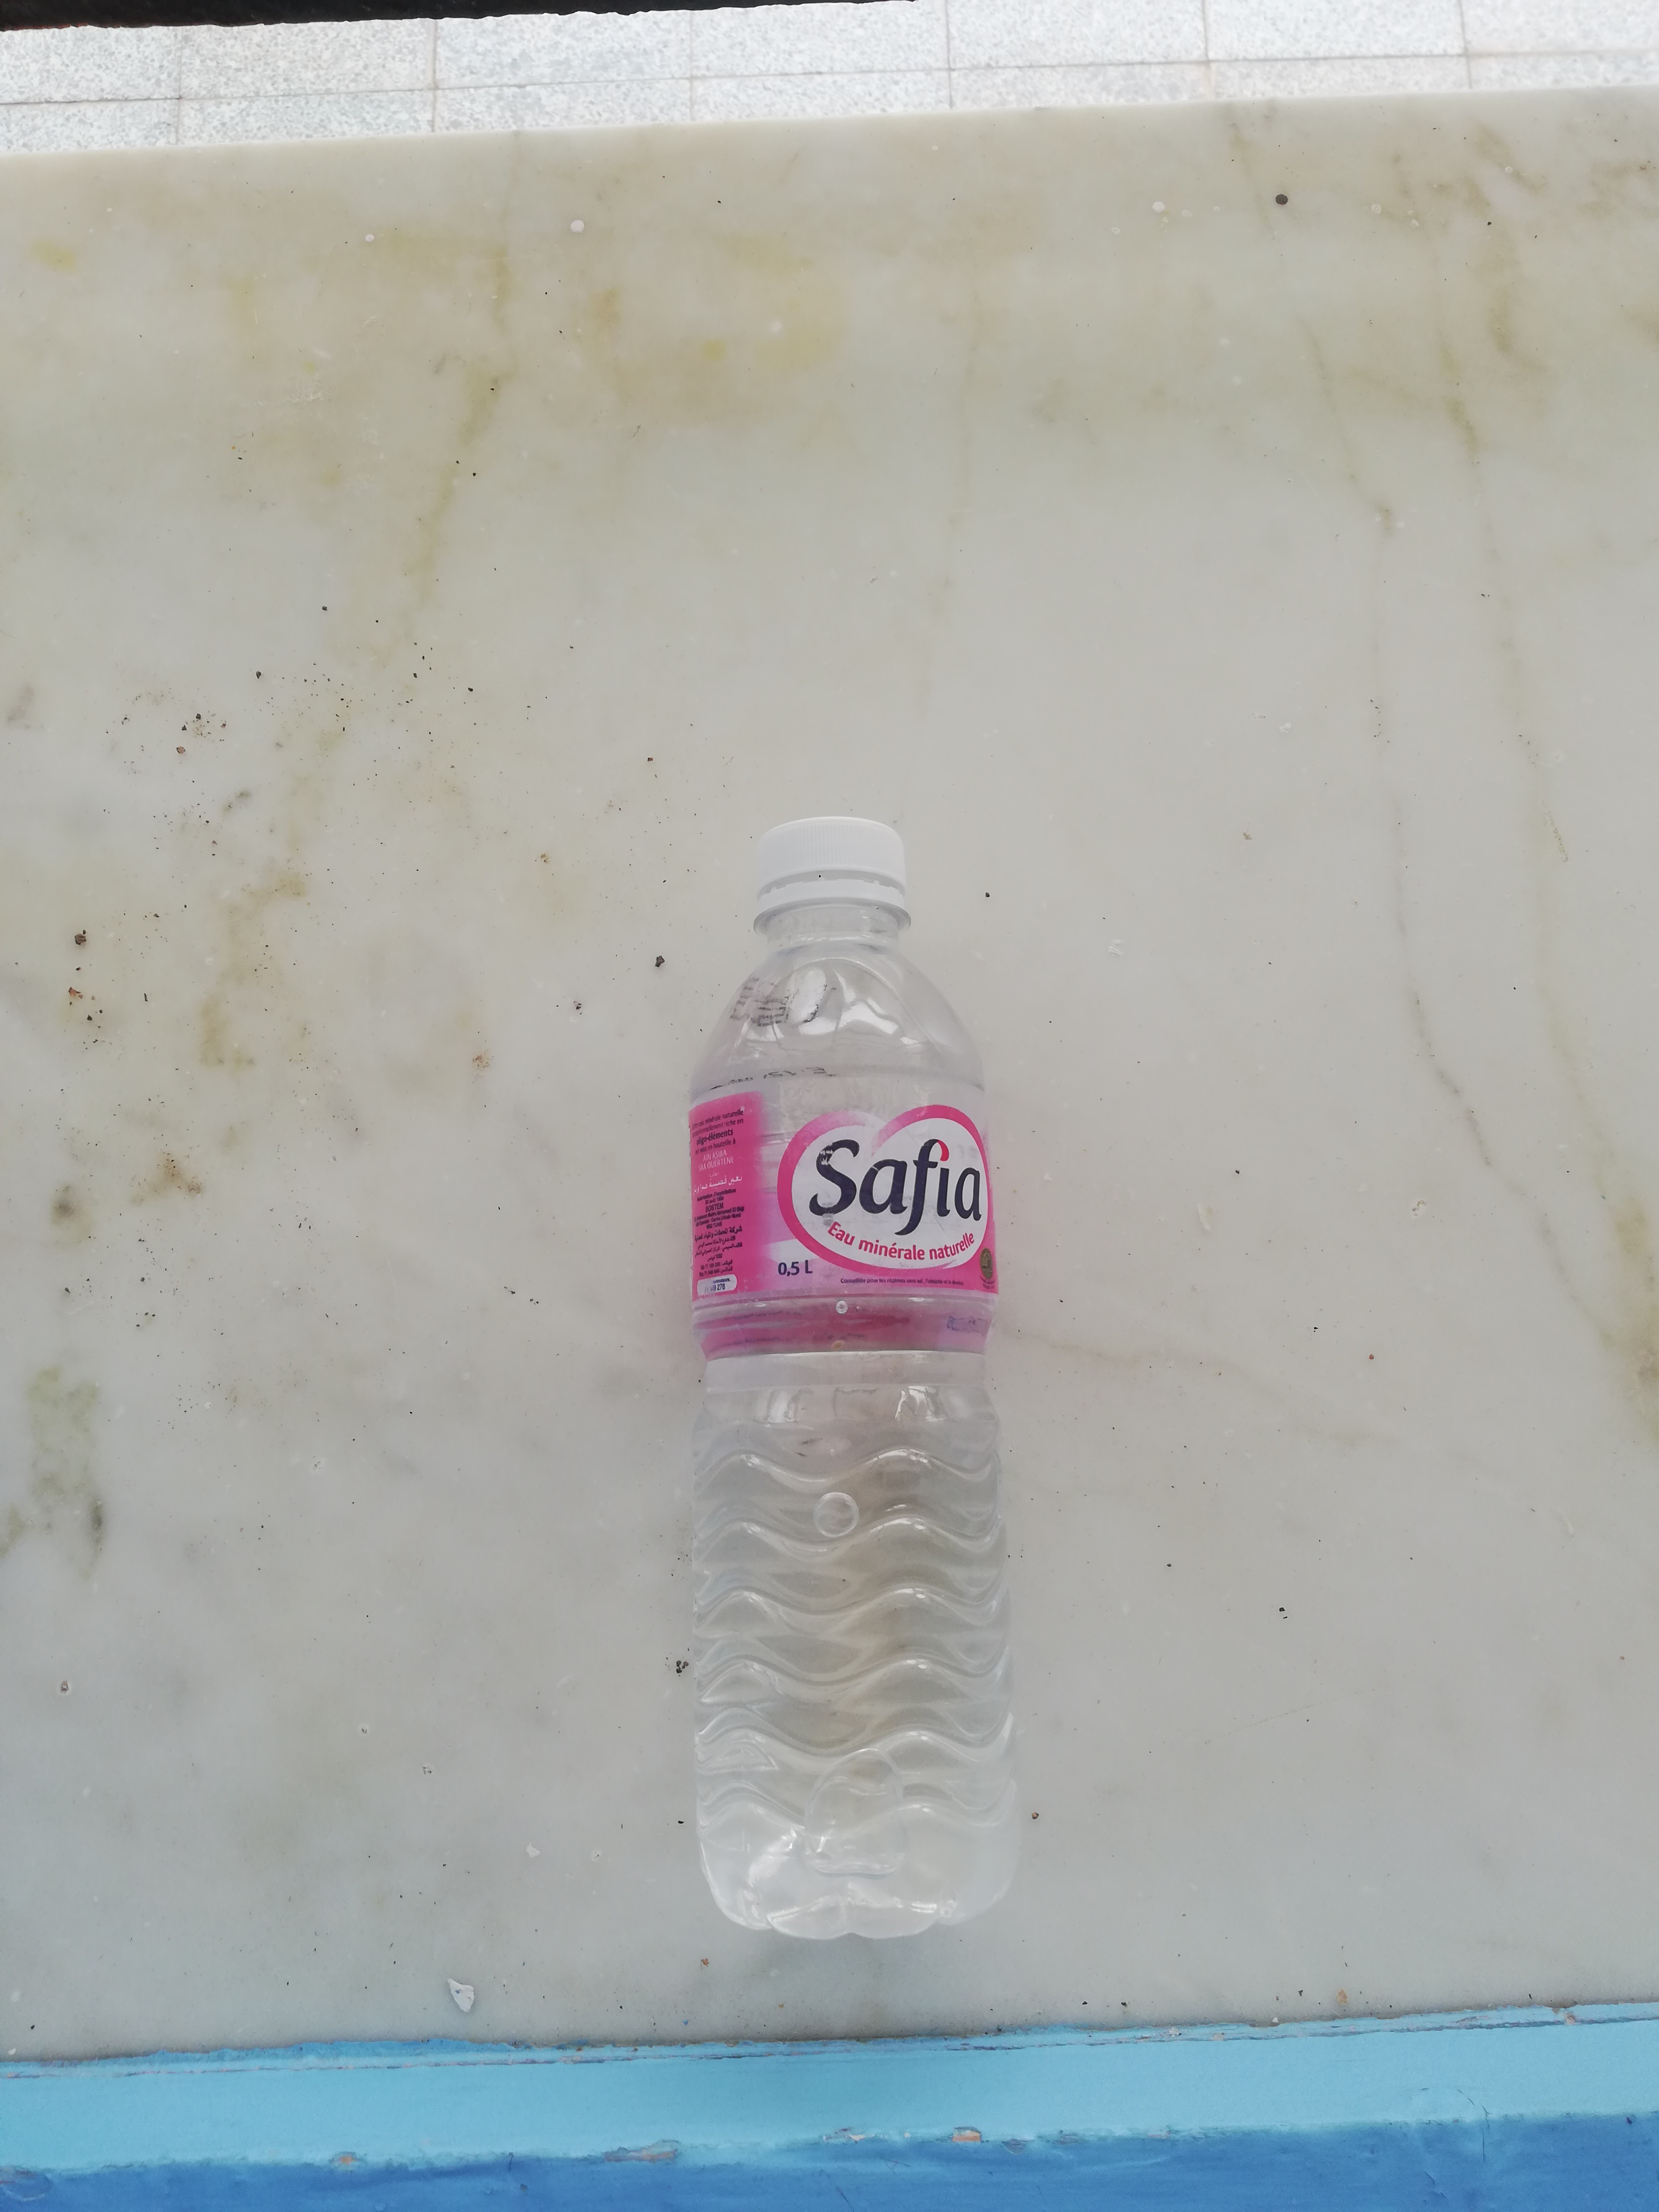Eau safia: (678, 817, 1014, 1942)
